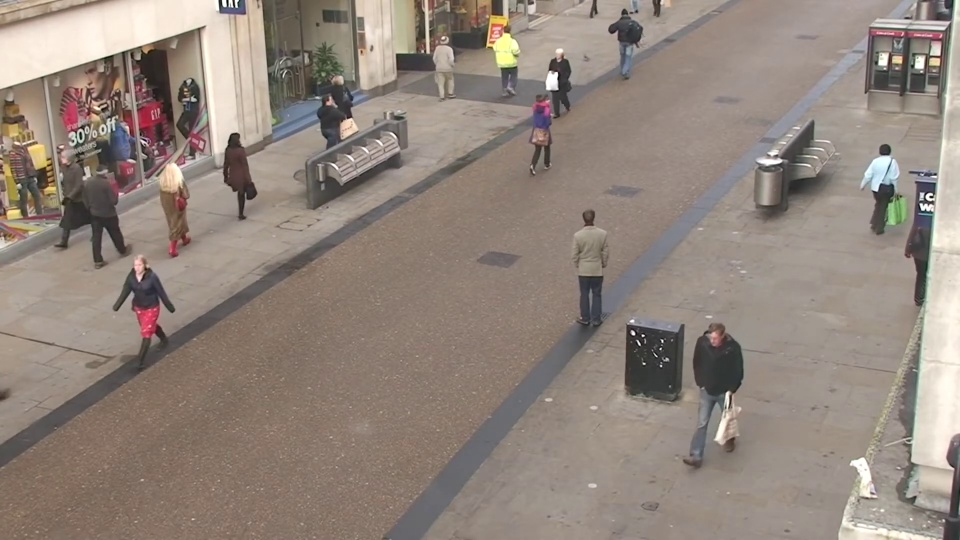pedestrian: (677, 325, 730, 475), (110, 253, 165, 382), (37, 149, 87, 251), (95, 156, 141, 260), (571, 202, 609, 323), (863, 138, 907, 242), (159, 151, 201, 254), (223, 127, 261, 224), (318, 87, 350, 174), (532, 84, 561, 171), (333, 73, 363, 156), (543, 48, 569, 124), (437, 33, 463, 105), (499, 22, 523, 91), (616, 2, 638, 67)
